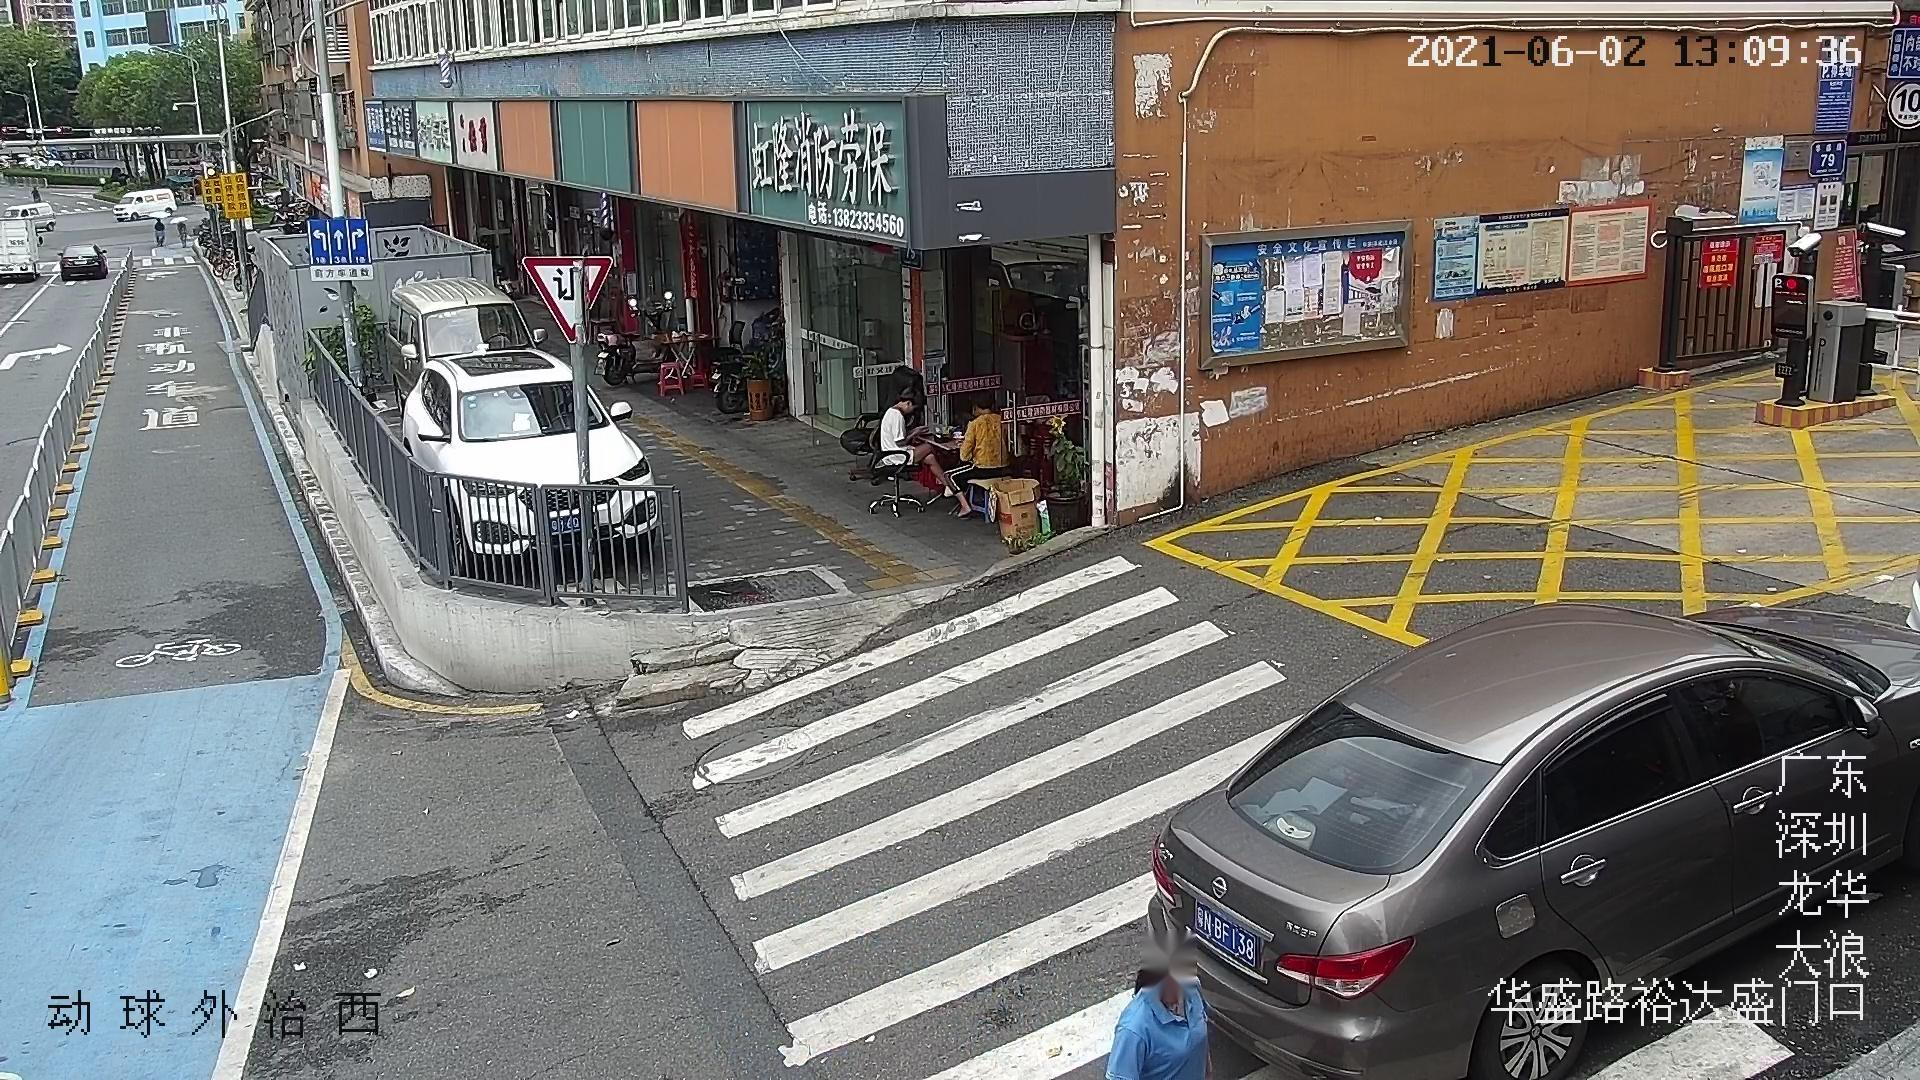chair: (839, 363, 930, 483), (868, 417, 924, 520), (658, 363, 684, 397), (688, 368, 707, 390)
table: (653, 331, 712, 381)
table_chair: (651, 330, 713, 400)
